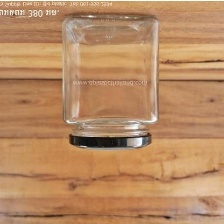glass: (55, 8, 169, 153)
